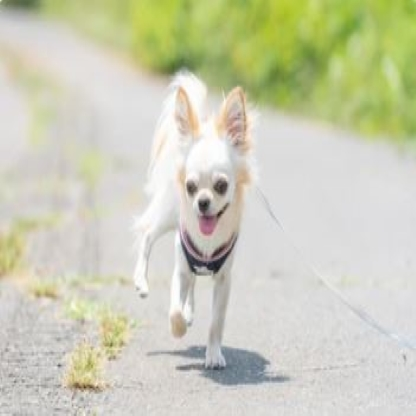chihuahua: (130, 66, 257, 370)
